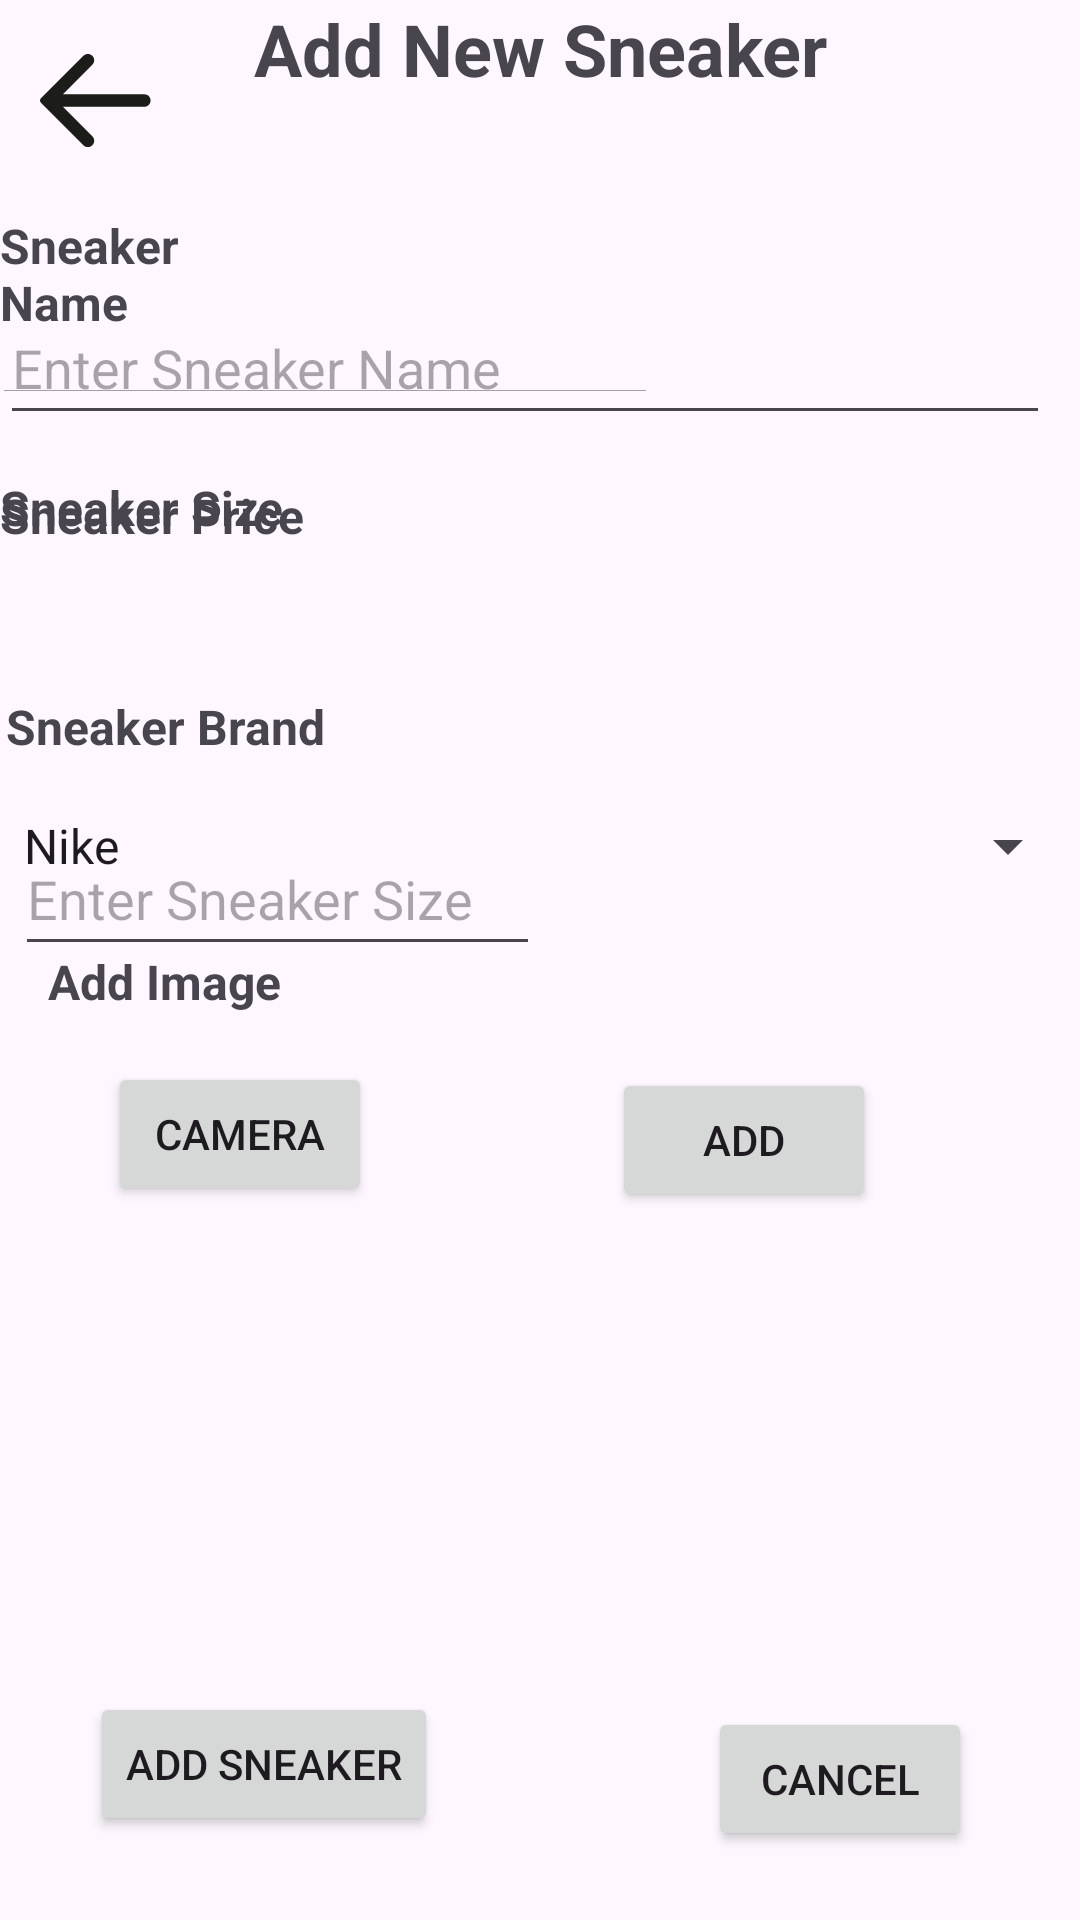

Point at icon controls on the screen. Image size 1080px x 1920px, points as point (x, y).
arrowleft: point (95, 100)
